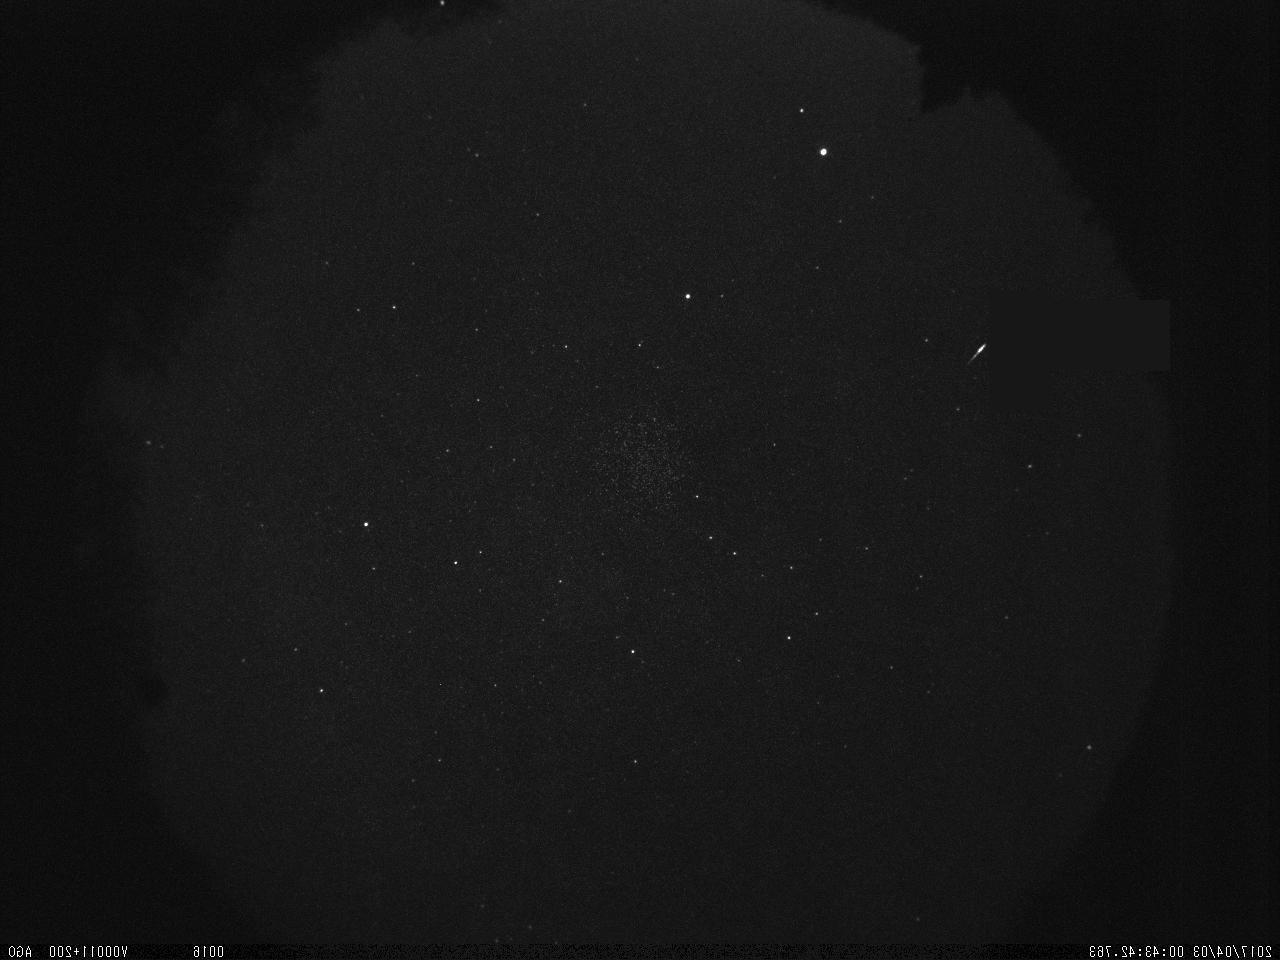meteor: (962, 338, 993, 367)
